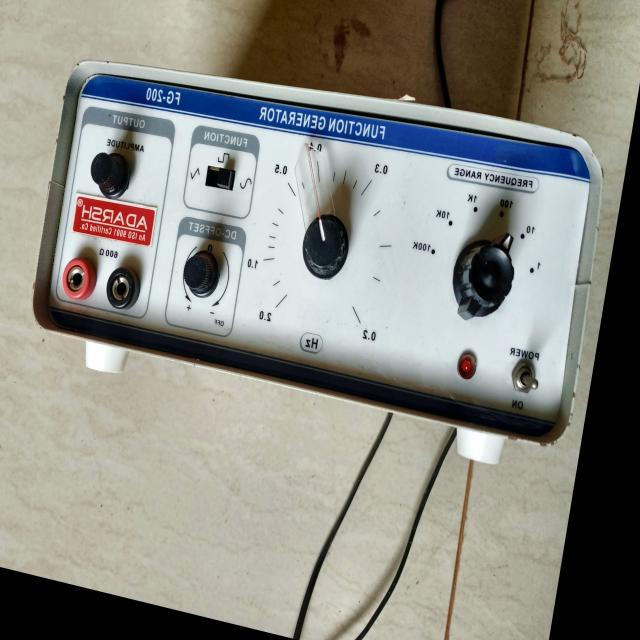Function Generator 100Khz: (10, 0, 624, 486)
